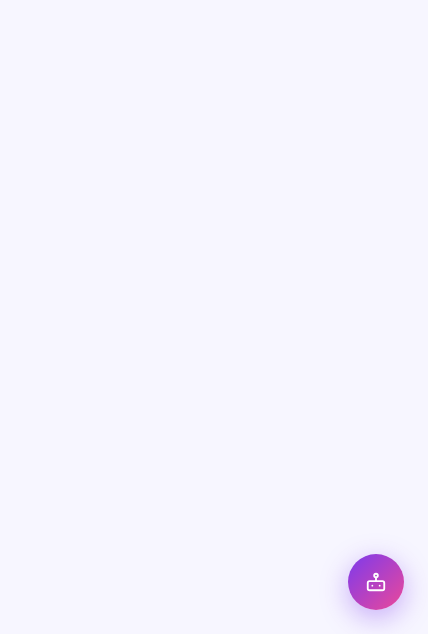
Test case: a rejected session (401) shows a session-expired message and clears only the client token
Step 1. Click the button with class "cw-fab" → (376, 582), box [348,554,404,610]
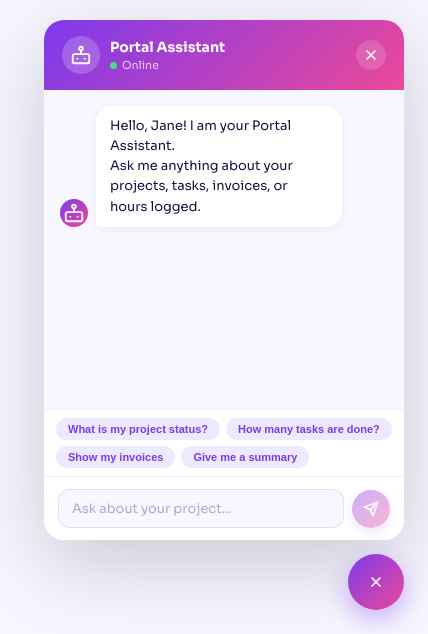
Step 2. Type "How are my projects?" into the text box with placeholder "Ask about your project..." → (201, 508), box [58,489,344,528]
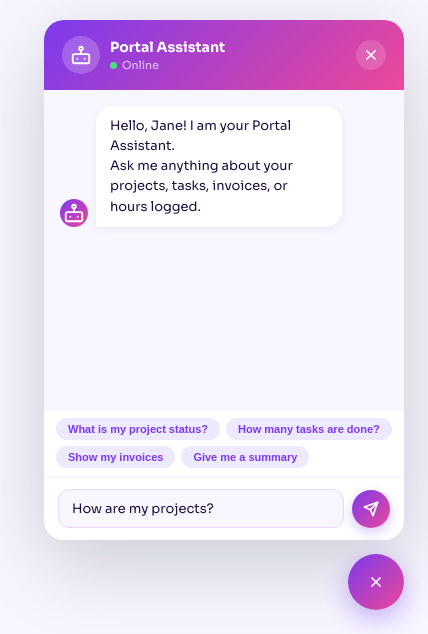
Step 3. Click the button with class "cw-send-btn" → (371, 509), box [352,490,390,528]
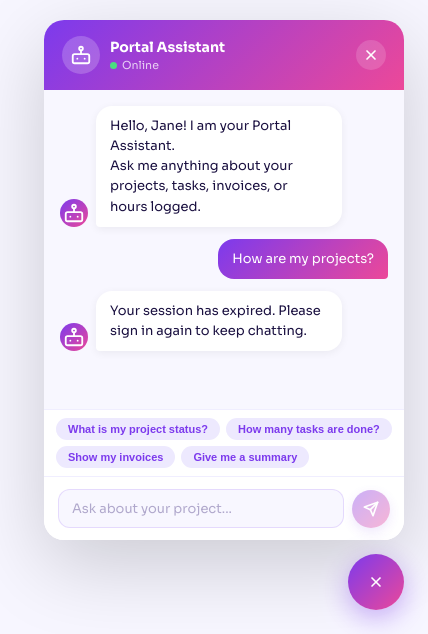
Expected: the text "session has expired" is shown, [110,302,321,339]
